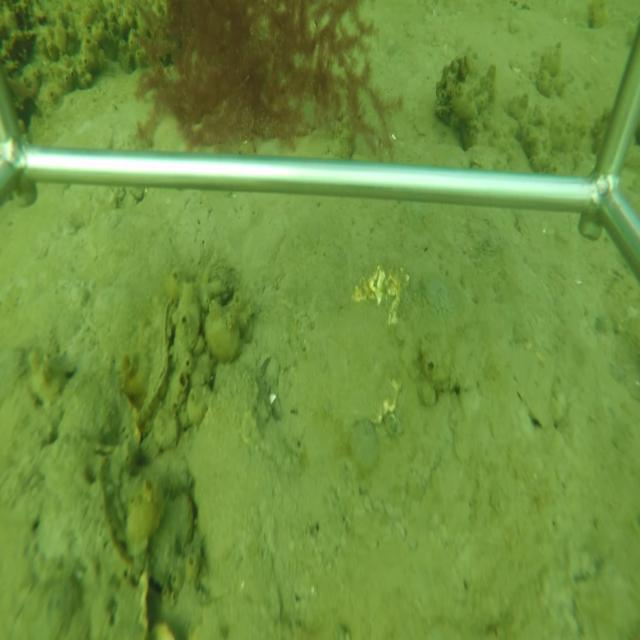Oyster-Closed: (136, 294, 179, 424)
